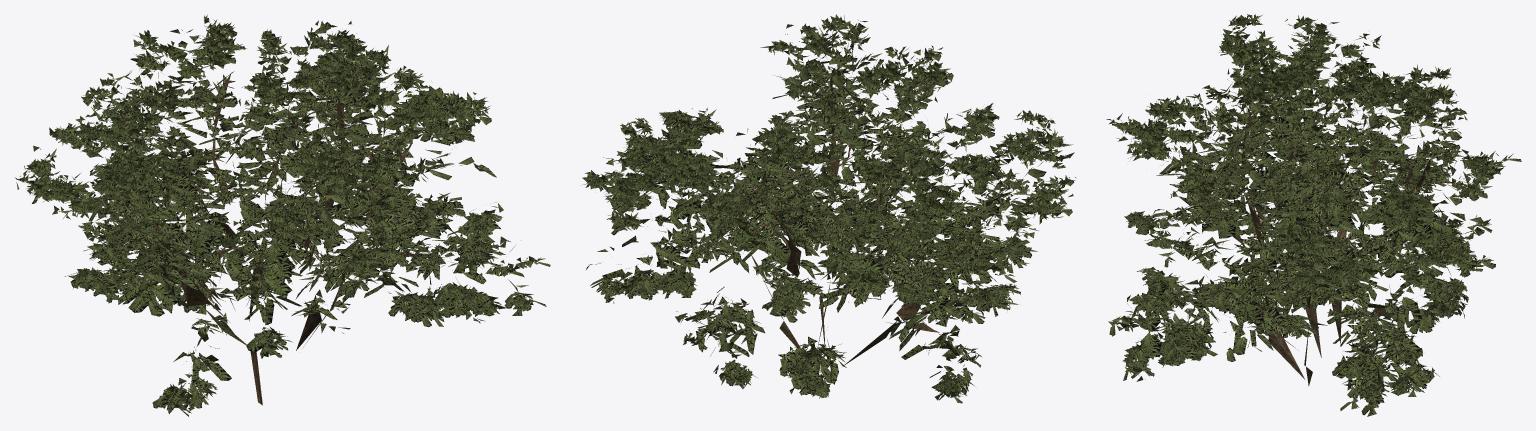
The model's file is jacaranda_tree.glb.
3 renders of one model, left to right at view 1: azimuth 30°, elevation 25°; view 2: azimuth 150°, elevation 25°; view 3: azimuth 270°, elevation 25°, orthographic. The views are drawn at different scales.
Parts seen in each view (by area): view 1: jacaranda_tree; view 2: jacaranda_tree; view 3: jacaranda_tree.
Boxes of the visible parts, <box> form: jacaranda_tree: <box>15,14,550,416</box>; jacaranda_tree: <box>582,14,1076,403</box>; jacaranda_tree: <box>1106,14,1521,416</box>.
Size of the model in its own units: 24.38 by 18.97 by 19.35.
3 materials, 3 textured.
